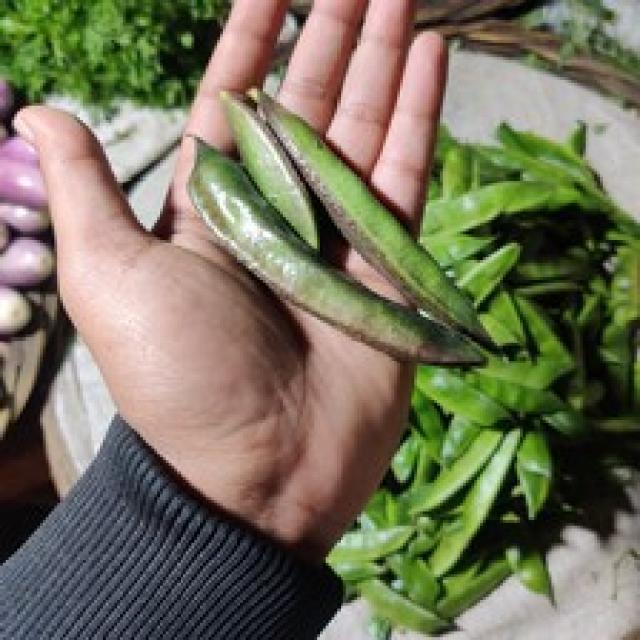Bean: (186, 85, 497, 368)
